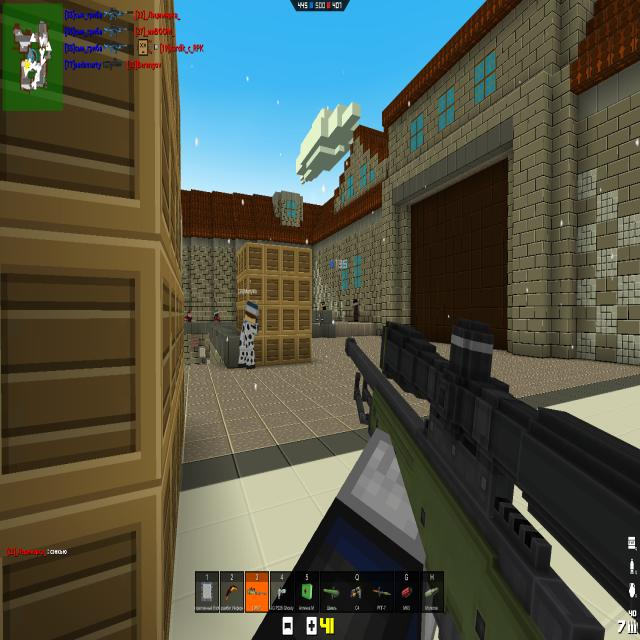player: (237, 300, 260, 370), (353, 300, 359, 322), (185, 308, 193, 323), (213, 310, 220, 323), (321, 301, 327, 311)
